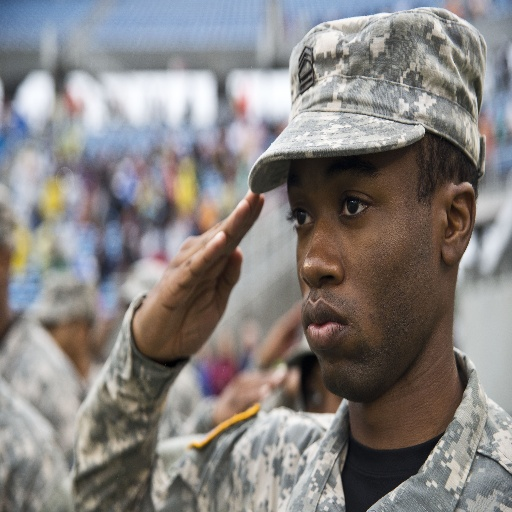hand: (130, 186, 265, 365), (214, 360, 291, 422), (250, 297, 304, 365)
